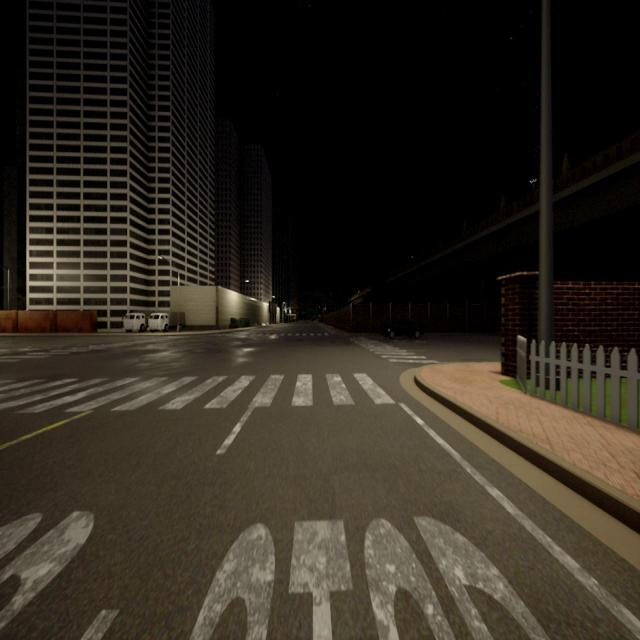Vehicle: (381, 318, 426, 340), (148, 310, 185, 332), (123, 311, 155, 333)
